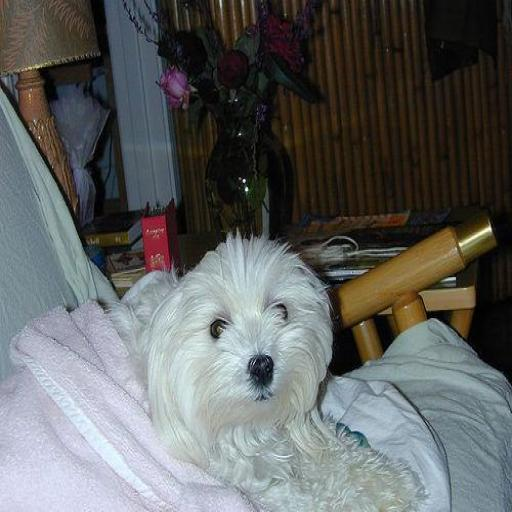dog_face: (166, 259, 323, 440)
